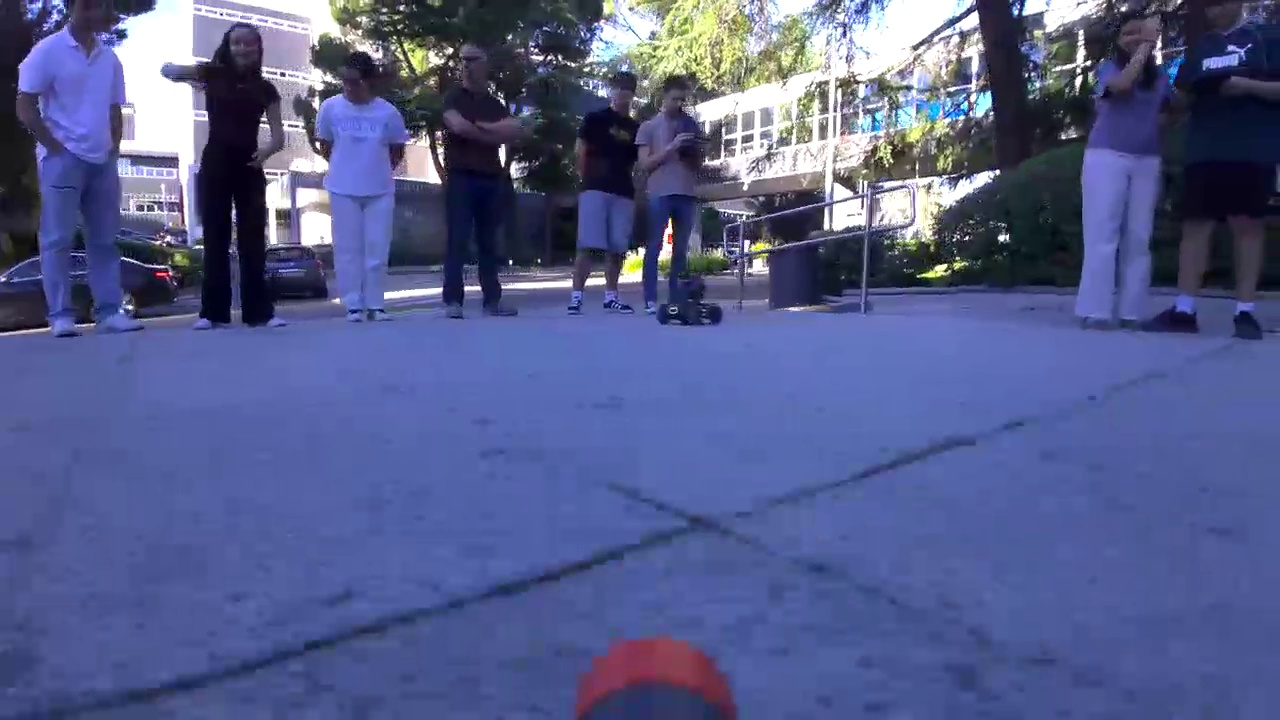robot: (656, 275, 725, 327)
